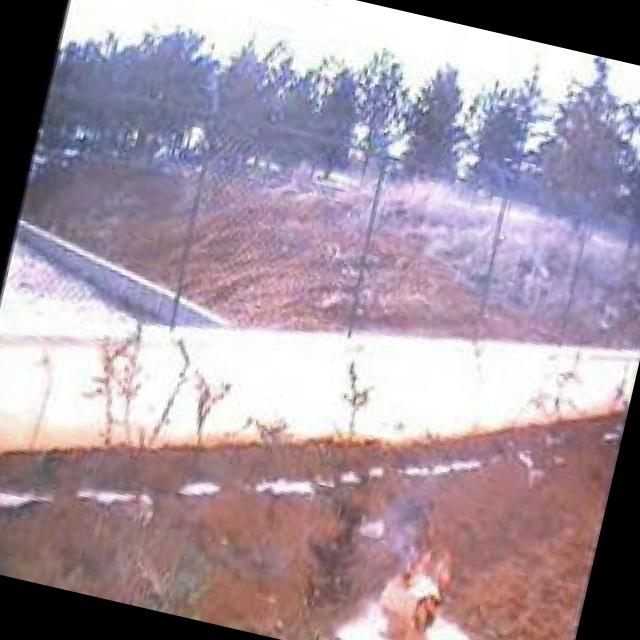Fire: (360, 498, 469, 640)
